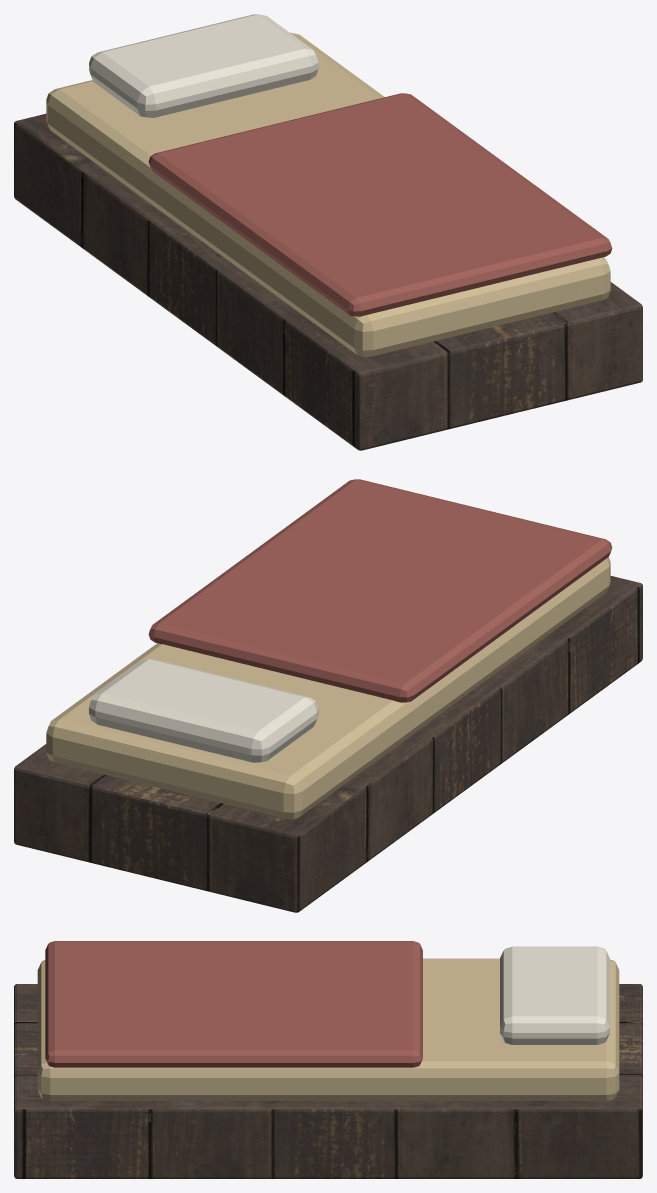
The model's file is bed.glb.
The picture shows the model from 3 angles, top to bottom: view 1: azimuth 30°, elevation 25°; view 2: azimuth 150°, elevation 25°; view 3: azimuth 270°, elevation 25°; orthographic projection. The views are drawn at different scales.
Visible parts, largest first — view 1: frame, blanket, mattress, pillow; view 2: frame, blanket, mattress, pillow; view 3: frame, blanket, mattress, pillow.
Boxes of the visible parts, x1,y1,x2,y2 form: frame: [14, 113, 642, 450]; blanket: [148, 93, 612, 316]; mattress: [46, 32, 610, 357]; pillow: [89, 14, 318, 117]; frame: [14, 576, 642, 912]; blanket: [148, 479, 612, 702]; mattress: [46, 557, 610, 819]; pillow: [89, 659, 318, 762]; frame: [14, 984, 642, 1178]; blanket: [45, 941, 422, 1067]; mattress: [37, 958, 619, 1100]; pillow: [500, 946, 609, 1044].
Size of the model in its own units: 0.95 by 0.475 by 2.
4 materials, 1 textured.
